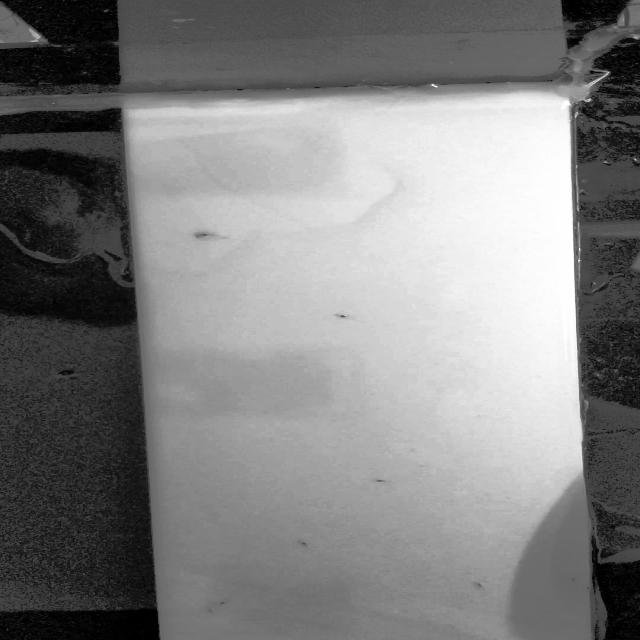shrimp: (192, 228, 224, 240), (328, 310, 356, 321), (468, 582, 495, 593), (297, 538, 315, 550), (375, 479, 401, 486), (200, 608, 219, 616), (569, 573, 583, 583), (214, 600, 232, 606)
